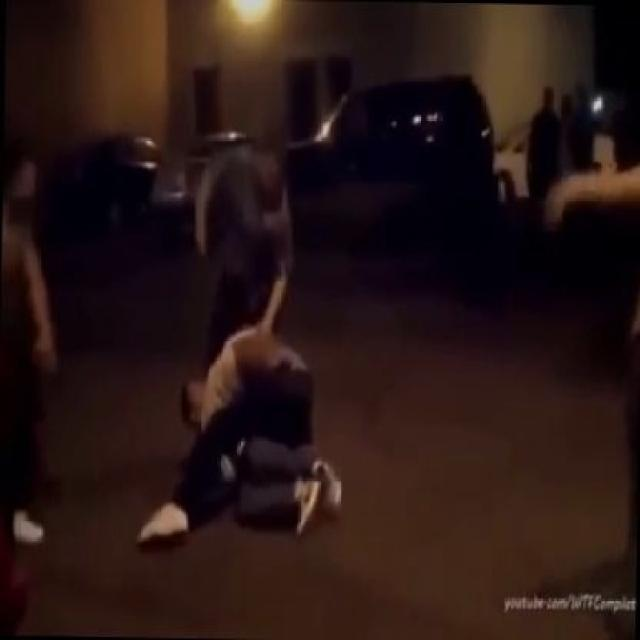fight: (129, 108, 357, 563)
